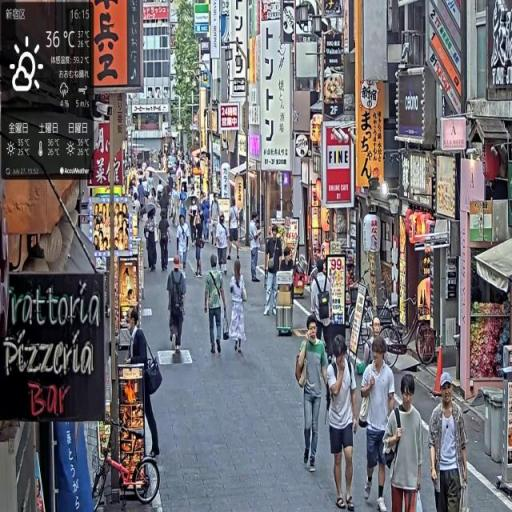person: (359, 336, 397, 511), (383, 376, 429, 512), (325, 332, 359, 512), (125, 309, 164, 463), (295, 315, 332, 474), (429, 374, 471, 512), (310, 255, 334, 365), (204, 254, 229, 356), (167, 254, 189, 361), (229, 258, 249, 357), (264, 225, 284, 317), (249, 212, 264, 285), (177, 215, 192, 276), (228, 199, 242, 261), (158, 211, 171, 272), (217, 215, 230, 276), (210, 195, 221, 248)
